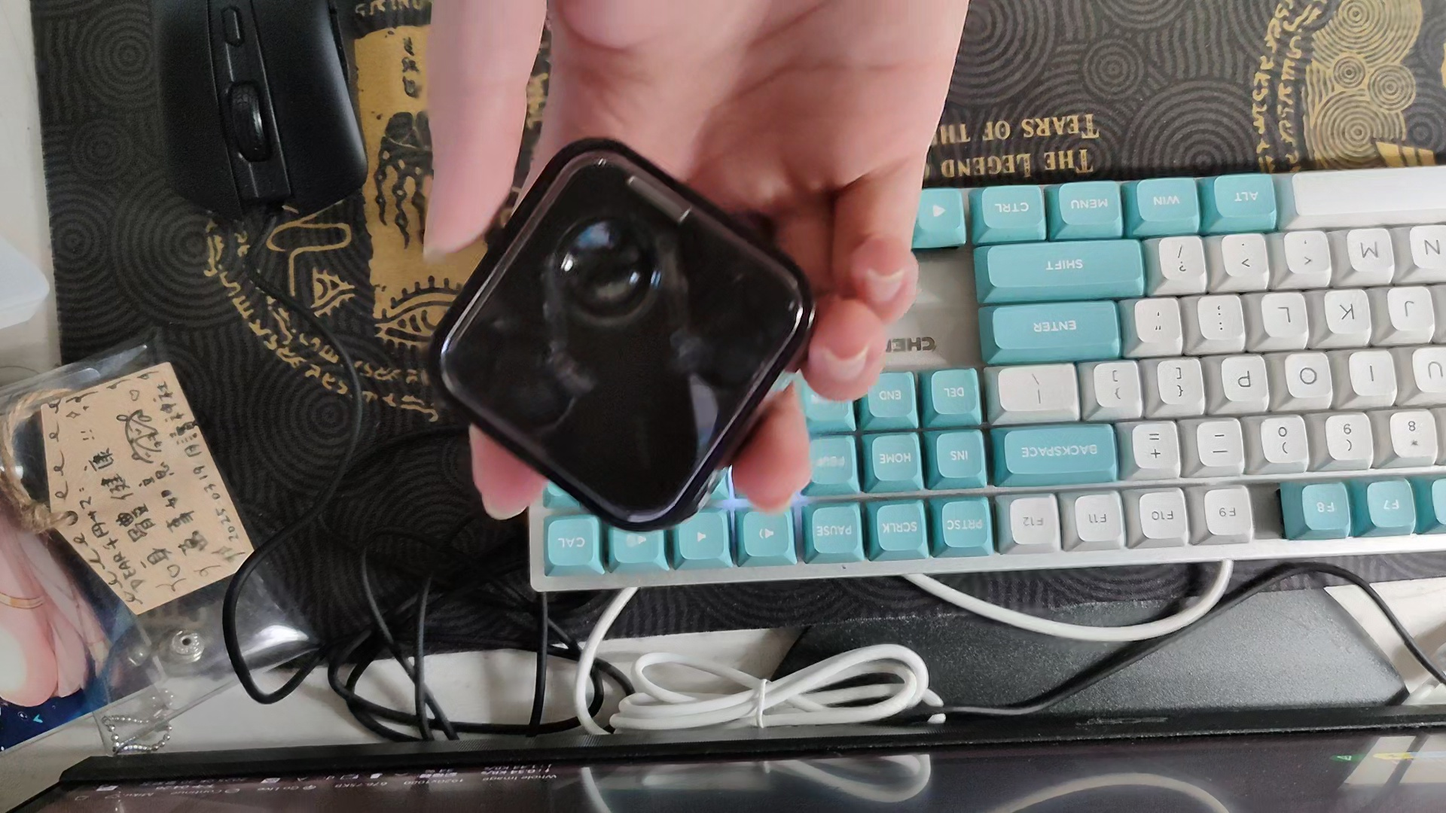Wireless_earphone: (425, 137, 818, 531)
